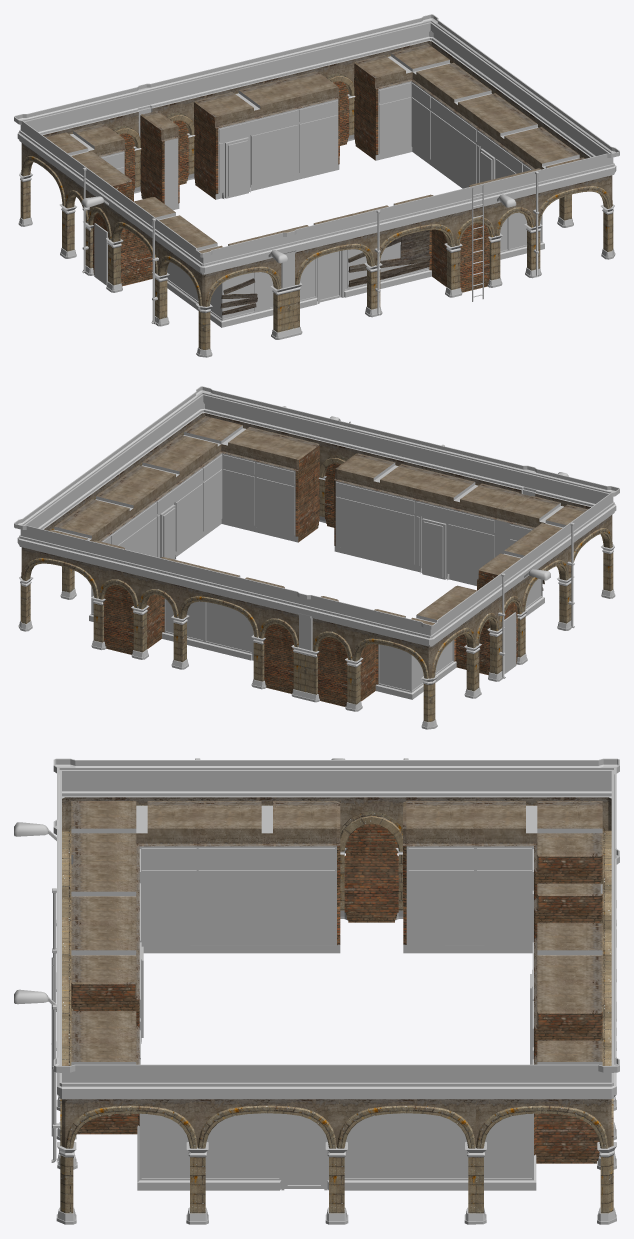
The model's file is Build7_el1.fbx.
3 renders of one model, top to bottom at view 1: azimuth 30°, elevation 25°; view 2: azimuth 150°, elevation 25°; view 3: azimuth 270°, elevation 25°, orthographic. The views are drawn at different scales.
Visible parts, largest first — view 1: polySurface2; view 2: polySurface2; view 3: polySurface2.
Part boxes in pixels (x1=…): polySurface2: x1=14, y1=14, x2=619, y2=357; polySurface2: x1=14, y1=386, x2=619, y2=729; polySurface2: x1=14, y1=758, x2=619, y2=1224.
Size of the model in its own units: 17.69 by 4.34 by 13.95.
